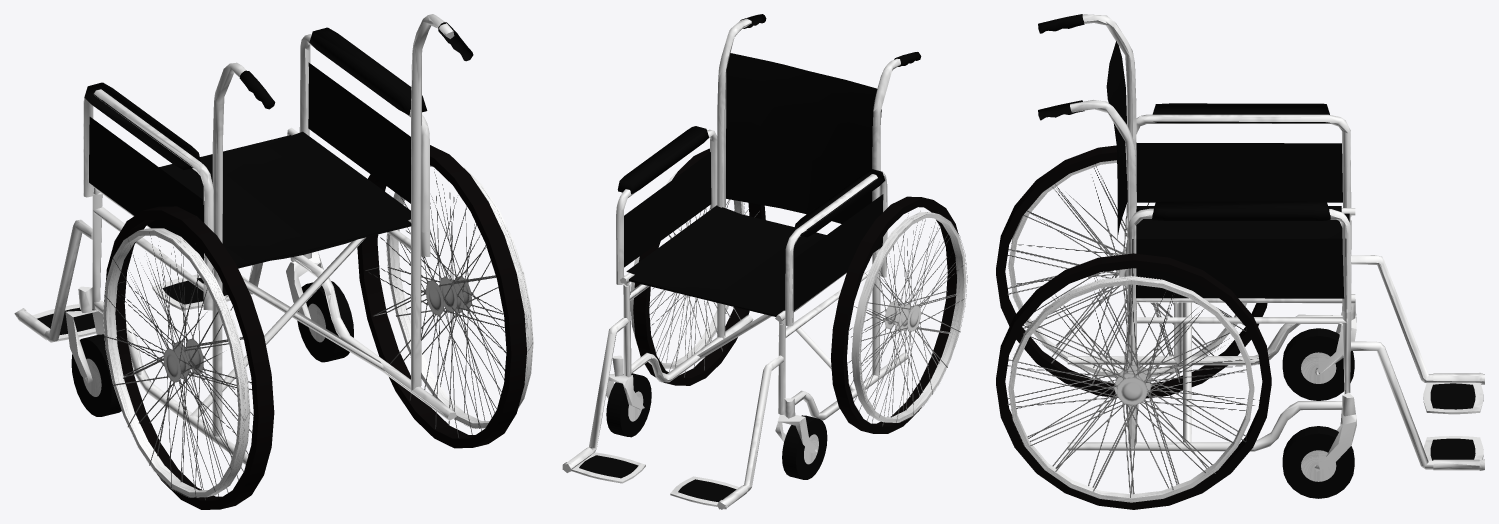
Rendered from wheelchair.FBX.
The picture shows the model from 3 angles, left to right: view 1: azimuth 30°, elevation 25°; view 2: azimuth 150°, elevation 25°; view 3: azimuth 270°, elevation 25°; orthographic projection. The views are drawn at different scales.
Visible parts, largest first — view 1: wheel chair; view 2: wheel chair; view 3: wheel chair.
Boxes of the visible parts, x1,y1,x2,y2 form: wheel chair: [14, 14, 533, 509]; wheel chair: [562, 14, 967, 509]; wheel chair: [996, 14, 1484, 509].
Size of the model in its own units: 0.8274 by 1.19 by 1.34.
5 materials, 4 textured.
